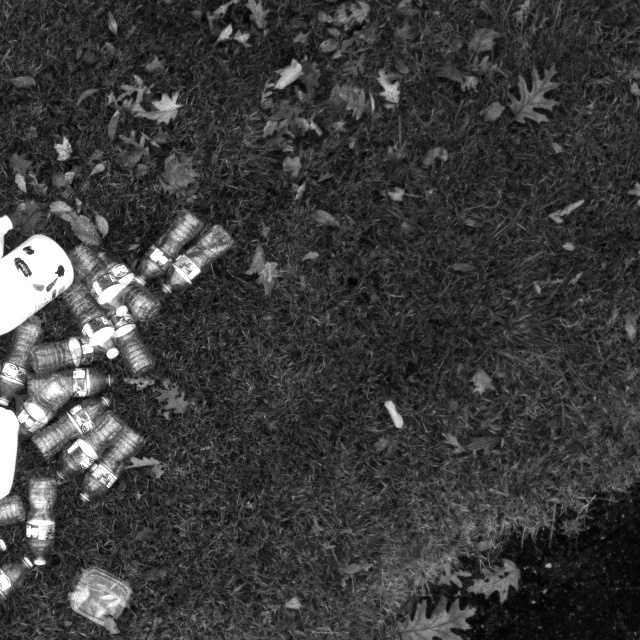bottle: (71, 241, 142, 330), (91, 244, 165, 329), (62, 275, 126, 372), (163, 223, 239, 298), (81, 427, 152, 502), (56, 414, 124, 481), (143, 211, 205, 281), (37, 398, 109, 456), (9, 381, 80, 436), (106, 297, 160, 368), (26, 470, 61, 575), (32, 330, 106, 373)
can: (0, 227, 74, 345)
container: (64, 561, 132, 636)
